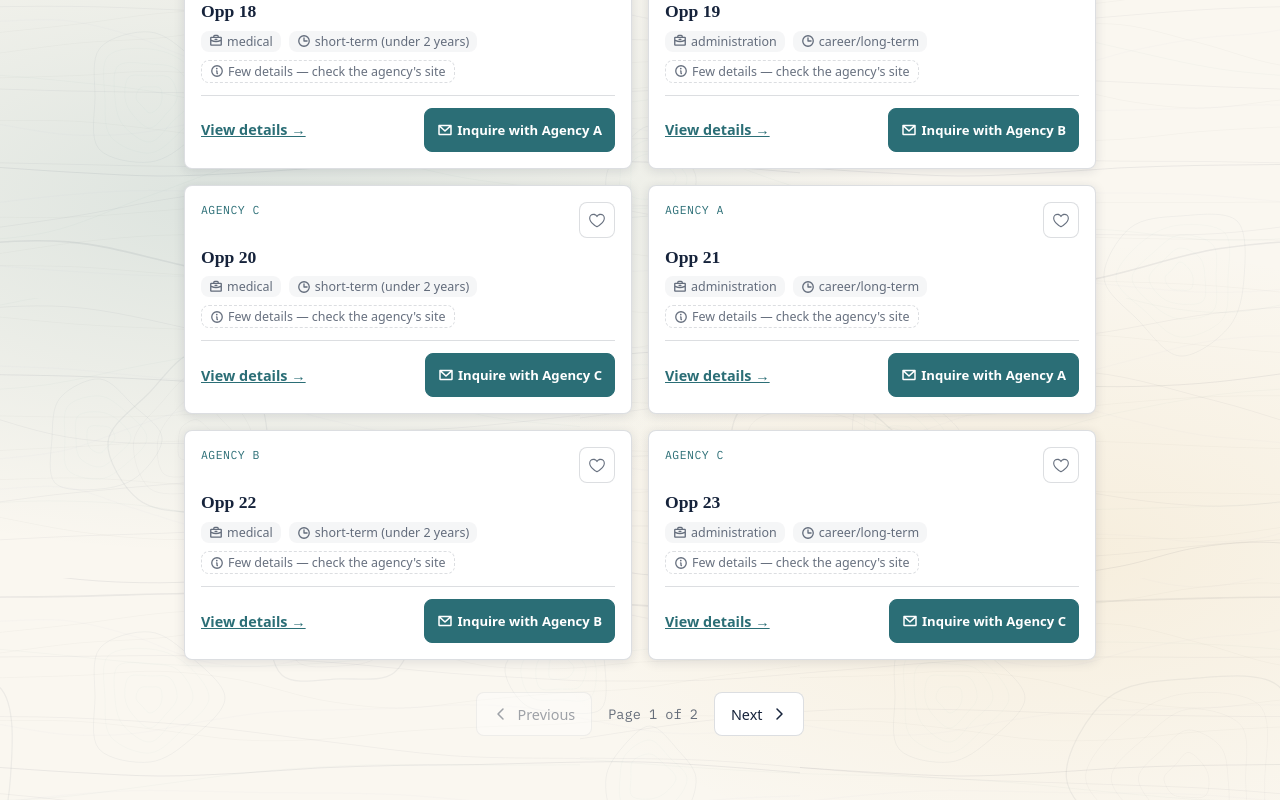
Test: OpportunitiesExplorer pagination, URL sync, and facet counts › shows 24 cards on page 1 and the rest on page 2, with a pager
(page scrolled)
expect the text "Page 1 of 2" is shown: met, box [608,705,698,723]
Click the button "Next": (759, 714) [714,692,804,736]
(page scrolled)
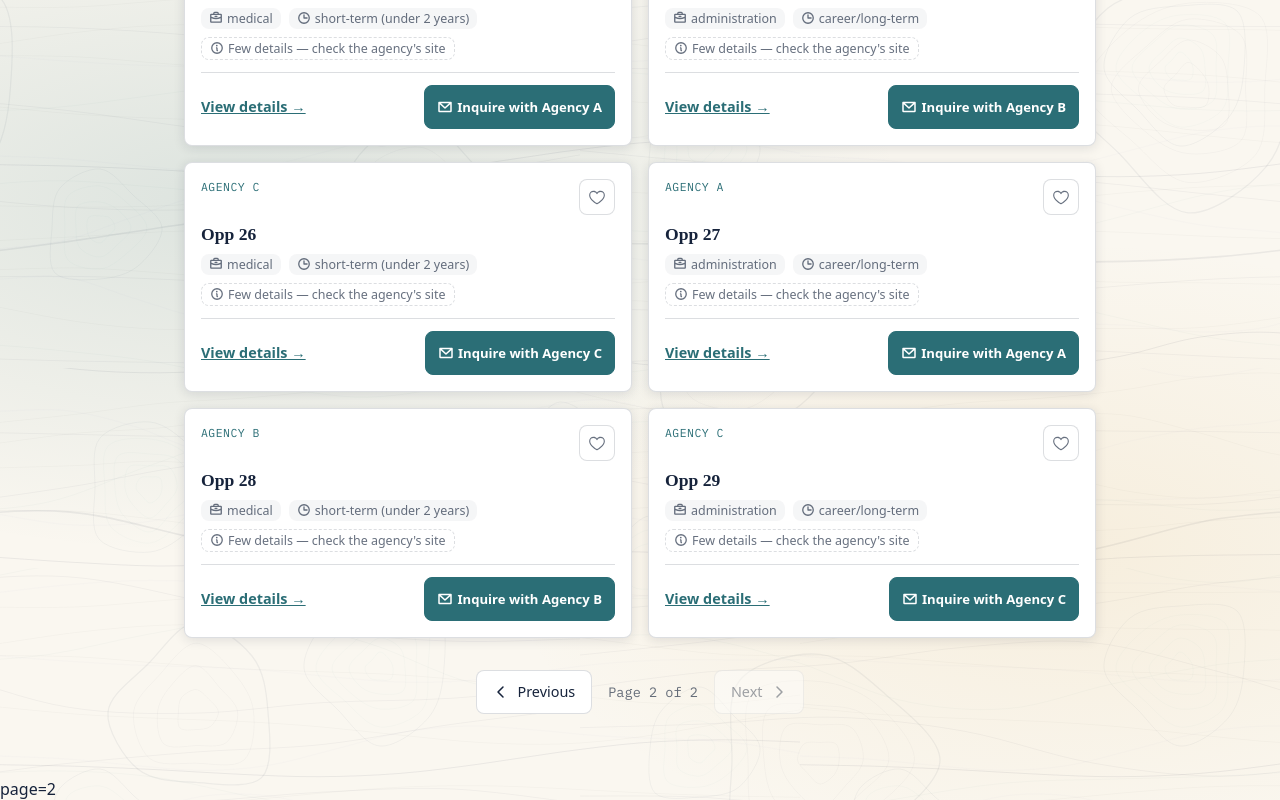
expect the number of headings is 6: met
expect the text "Page 2 of 2" is shown: met, box [608,683,698,701]
